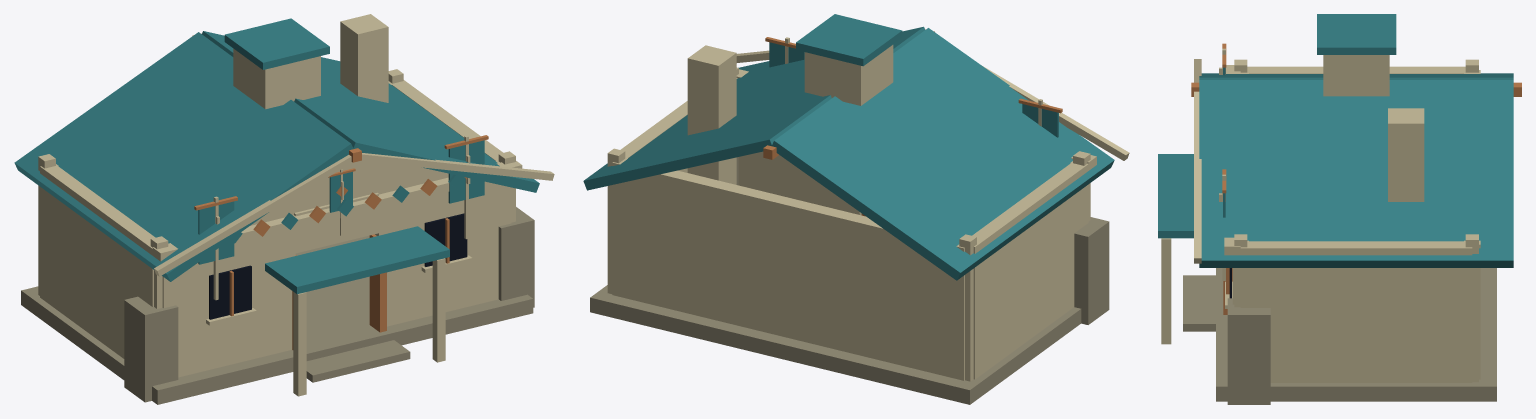
File: hall_crosshaven_lv2.glb
3 renders of one model, left to right at view 1: azimuth 30°, elevation 25°; view 2: azimuth 150°, elevation 25°; view 3: azimuth 270°, elevation 25°, orthographic. The views are drawn at different scales.
Visible parts, largest first — view 1: hall_crosshaven_lv2; view 2: hall_crosshaven_lv2; view 3: hall_crosshaven_lv2.
Part boxes in pixels (x1,y1,x2,y2): hall_crosshaven_lv2: (14, 14, 554, 404); hall_crosshaven_lv2: (583, 14, 1129, 404); hall_crosshaven_lv2: (1158, 14, 1521, 404).
Size of the model in its own units: 28.54 by 18.45 by 22.
